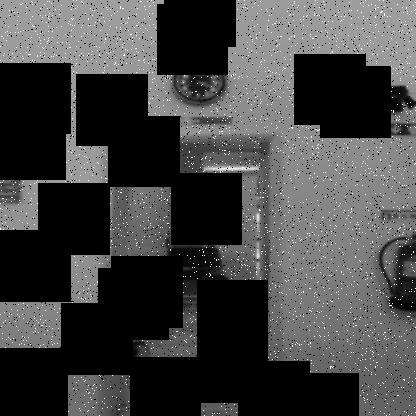Porte: (98, 131, 286, 415)
